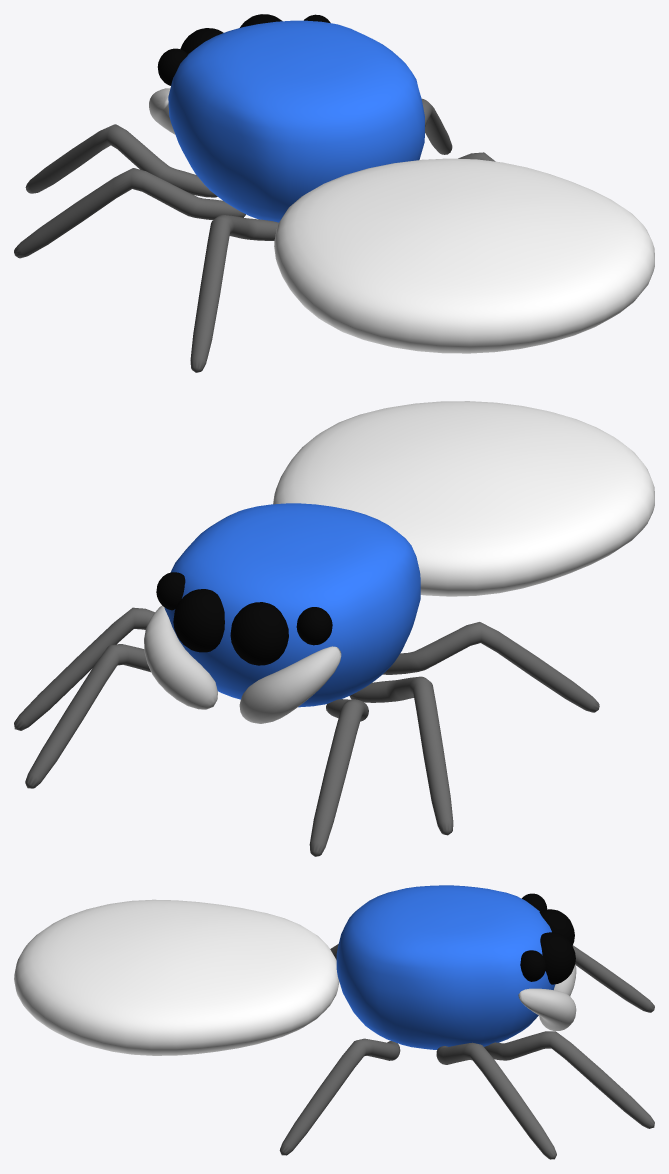
The model's file is Spider22.glb.
The picture shows the model from 3 angles, top to bottom: view 1: azimuth 30°, elevation 25°; view 2: azimuth 150°, elevation 25°; view 3: azimuth 270°, elevation 25°; orthographic projection. The views are drawn at different scales.
Visible parts, largest first — view 1: Butt, Head, Leg.003, Leg.005, Leg.001, Leg.002, Pincer.001, Eye.002, Eye; view 2: Butt, Head, Leg.005, Leg.003, Pincer.001, Pincer, Leg, Leg.001, Leg.002, Eye, Eye.001, Eye.002 (+1 smaller); view 3: Butt, Head, Leg, Leg.004, Leg.002, Pincer, Leg.001, Eye.001, Eye.003, Eye.
Part boxes in pixels (x1,y1,x2,y2): Butt: (274, 158, 654, 353); Head: (168, 20, 424, 222); Leg.003: (14, 168, 245, 258); Leg.005: (190, 215, 278, 372); Leg.001: (25, 124, 217, 197); Leg.002: (422, 98, 452, 154); Pincer.001: (149, 88, 175, 134); Eye.002: (157, 48, 188, 85); Eye: (180, 28, 223, 53); Butt: (273, 401, 654, 596); Head: (164, 503, 420, 707); Leg.005: (383, 622, 599, 712); Leg.003: (349, 676, 453, 835); Pincer.001: (239, 646, 341, 723); Pincer: (144, 605, 217, 709); Leg: (25, 644, 150, 788); Leg.001: (309, 699, 368, 856); Leg.002: (14, 607, 154, 730); Eye: (230, 602, 288, 665); Eye.001: (173, 589, 224, 652); Eye.002: (296, 607, 332, 645); Butt: (14, 899, 339, 1055); Head: (336, 885, 555, 1049); Leg: (484, 1031, 654, 1128); Leg.004: (279, 1038, 400, 1155); Leg.002: (436, 1042, 556, 1159); Pincer: (518, 988, 576, 1030); Leg.001: (572, 945, 654, 1012); Eye.001: (540, 932, 575, 984); Eye.003: (520, 950, 546, 981); Eye: (539, 909, 574, 945).
Size of the model in its own units: 0.3311 by 0.1445 by 0.5081.
